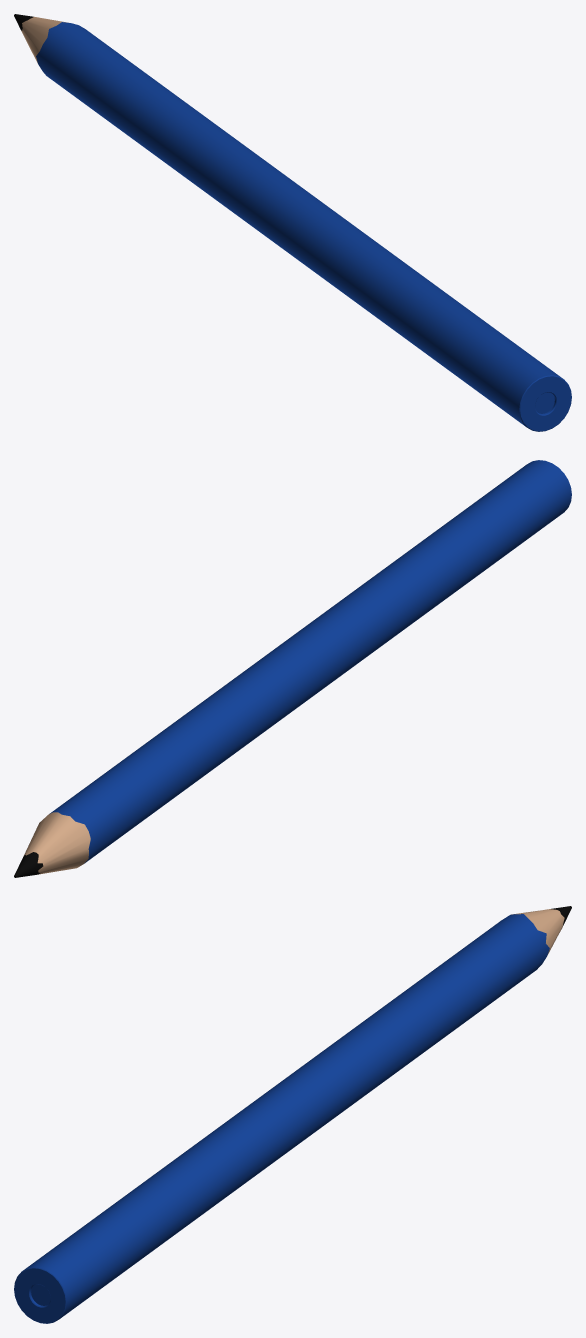
The model's file is pencil.FBX.
The picture shows the model from 3 angles, top to bottom: view 1: azimuth 30°, elevation 25°; view 2: azimuth 150°, elevation 25°; view 3: azimuth 330°, elevation 25°; orthographic projection.
Parts seen in each view (by area): view 1: pencil; view 2: pencil; view 3: pencil.
Part boxes in pixels (x1,y1,x2,y2): pencil: (14,14,571,431); pencil: (14,460,571,877); pencil: (14,906,571,1323).
Size of the model in its own units: 8 by 139 by 8.
